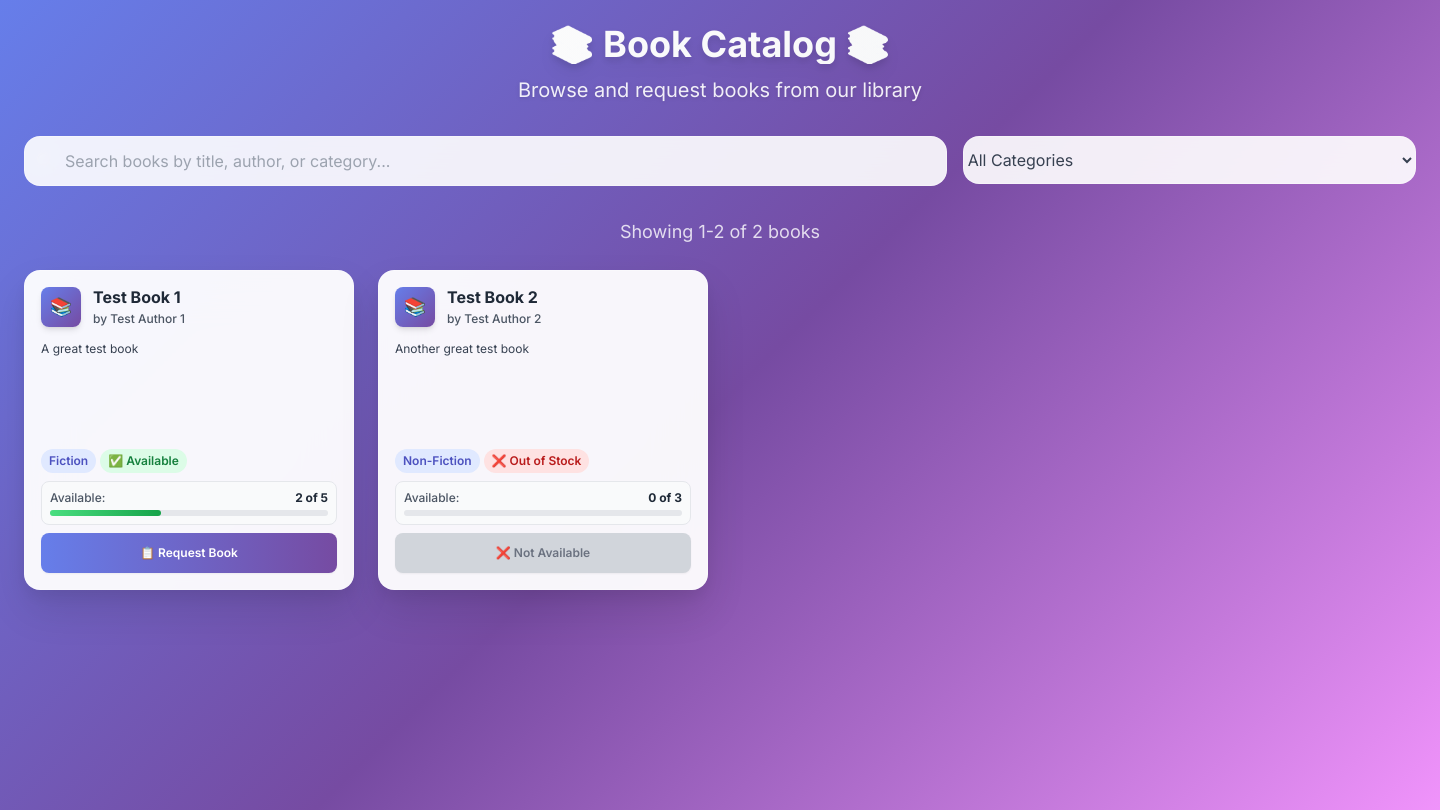
Scenario: BookCatalog Component › opens request dialog when request button is clicked
Click the button "📋 Request Book" at {"x": 189, "y": 553}, box [41,533,337,573]
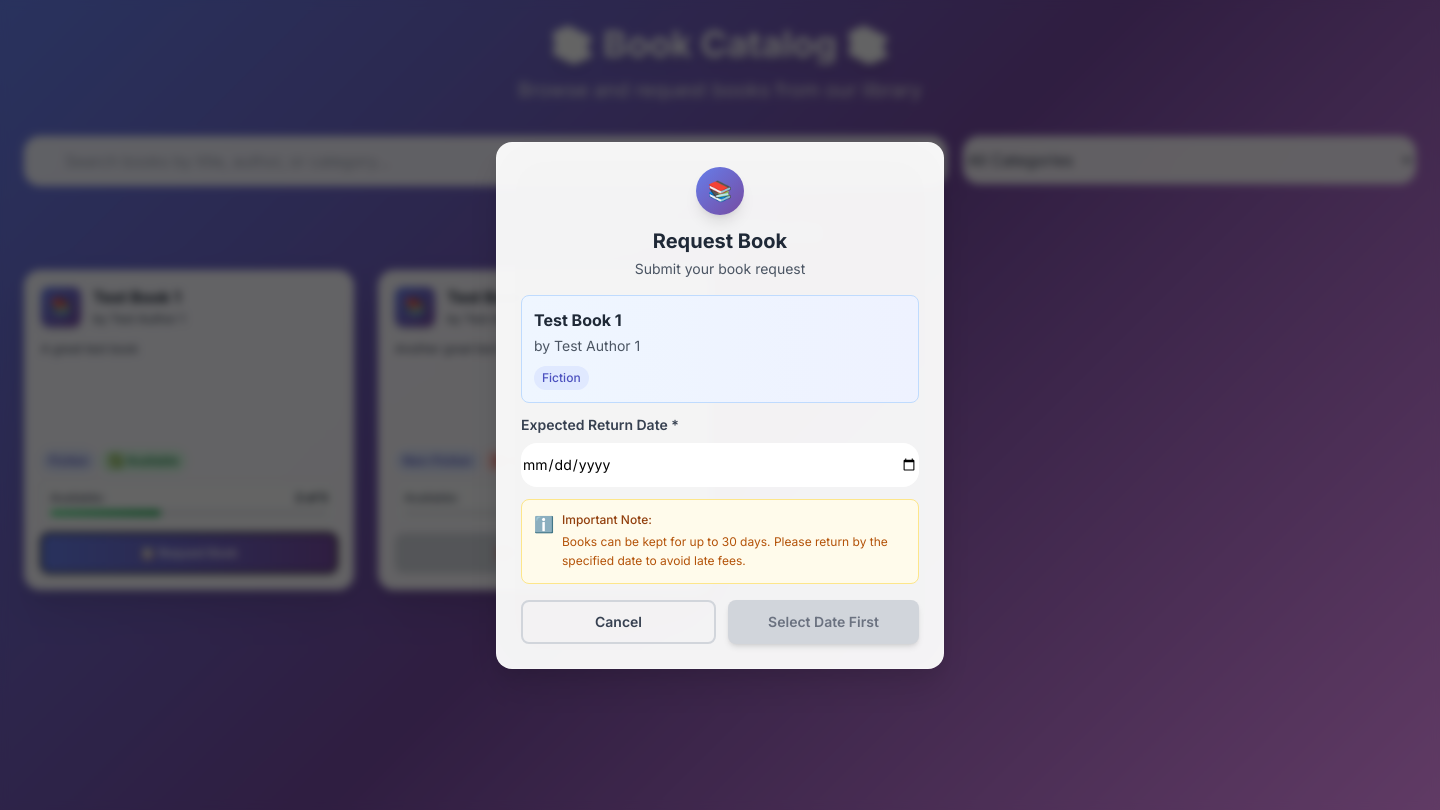
Result: the heading "Request Book" is shown at [653,228,787,252]
